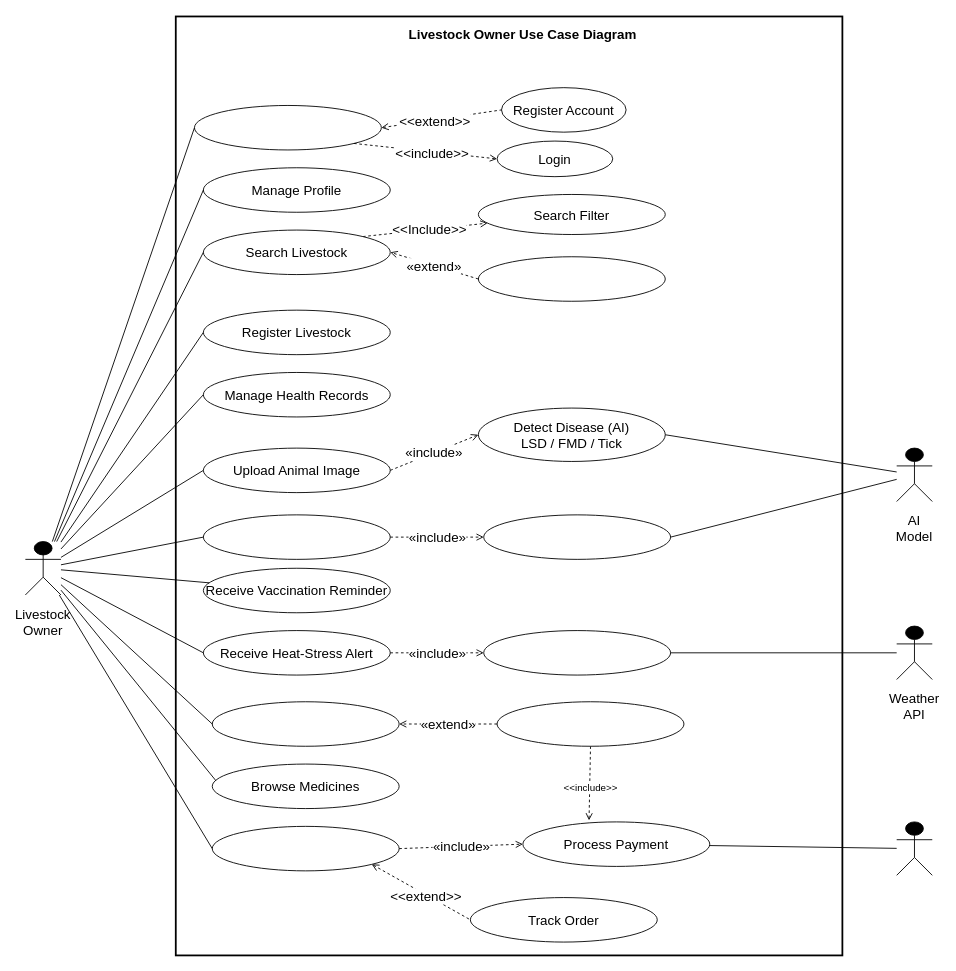
This 956x971 diagram has some shape labels left out. The shapes that lost their labels are listed below. From the top down, each one's centre as x and y in pixels, then its label:
At (x=287, y=127): "Authenticate".
At (x=571, y=278): "Use Urdu Voice Search".
At (x=296, y=536): "View Diagnosis Result".
At (x=577, y=536): "Body Condition Scoring".
At (x=577, y=652): "Fetch Weather Data".
At (x=305, y=723): "Request Consultation".
At (x=590, y=723): "Live Chat / Video Call".
At (x=305, y=848): "Place Medicine Order".
At (x=914, y=848): "Payment Gateway".
